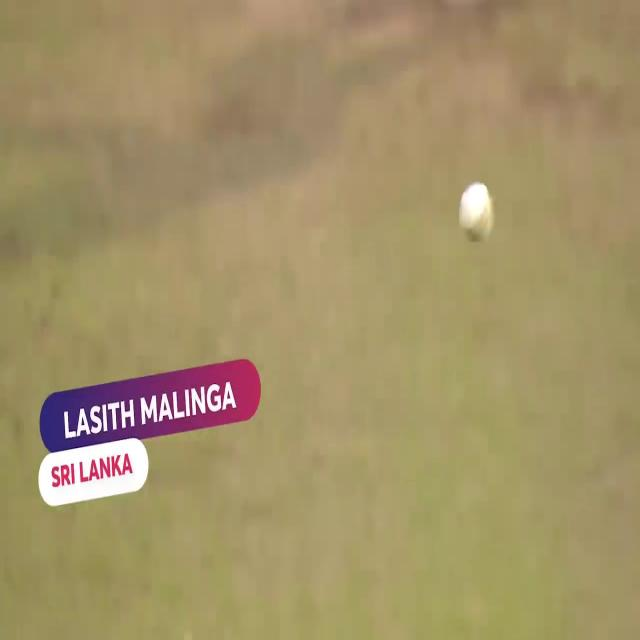ball: (456, 180, 496, 243)
